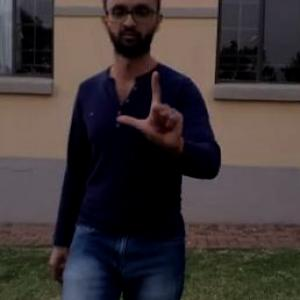land_hand: (112, 63, 190, 156)
